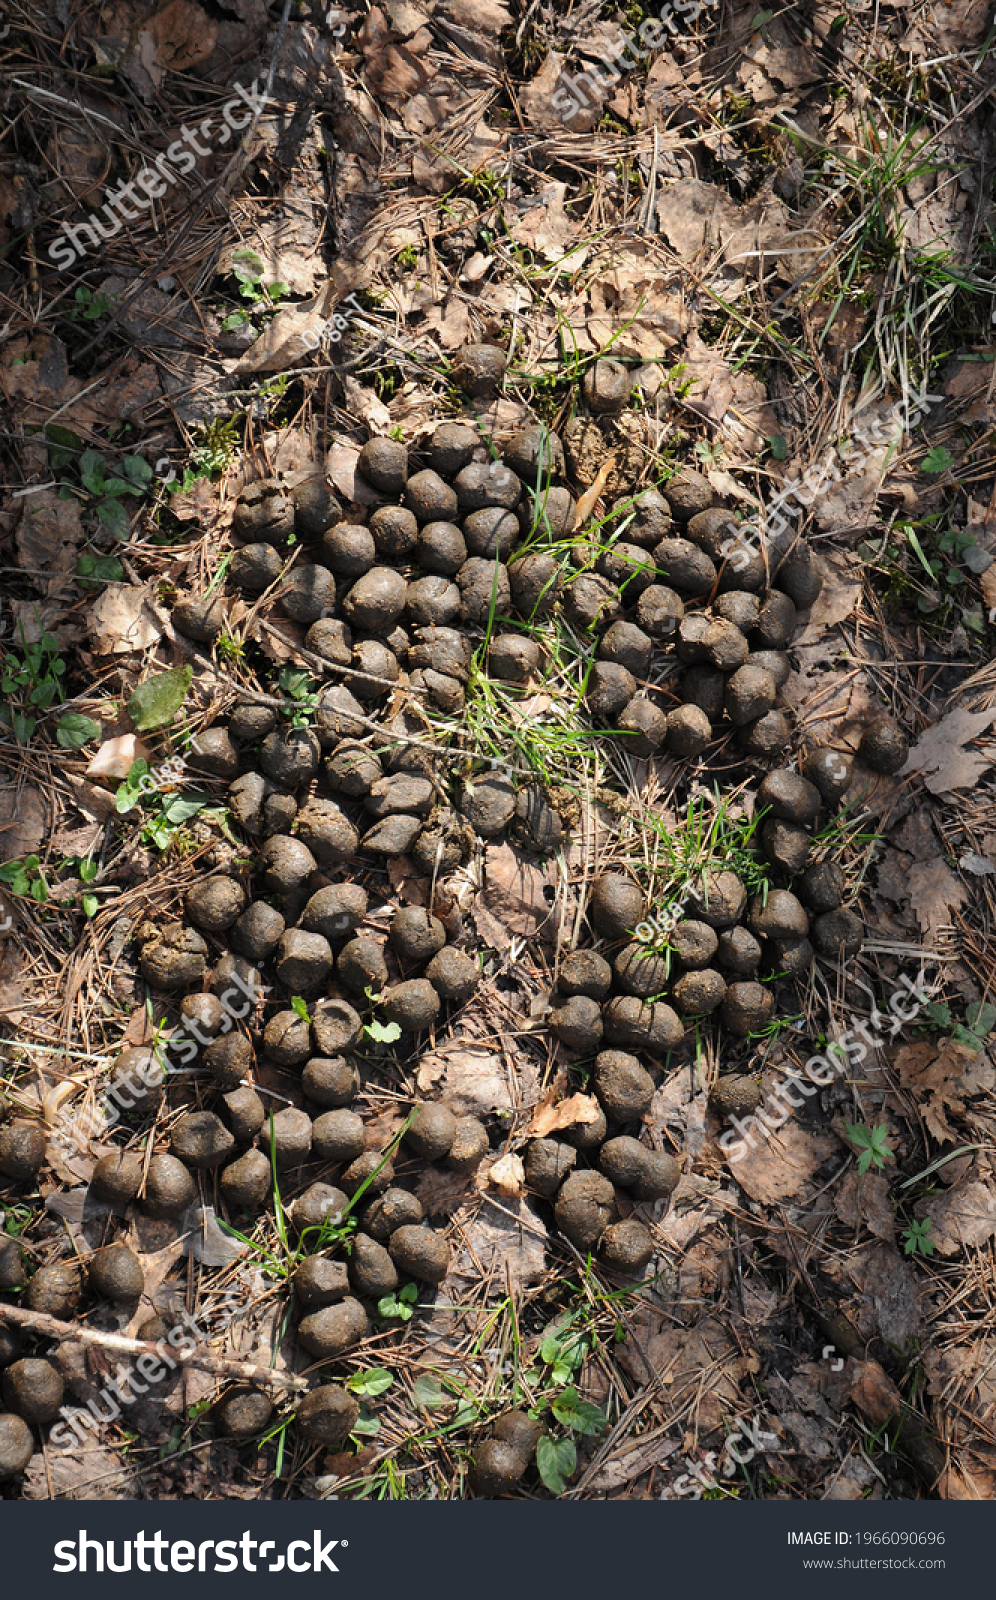Elk: (178, 451, 784, 1264)
